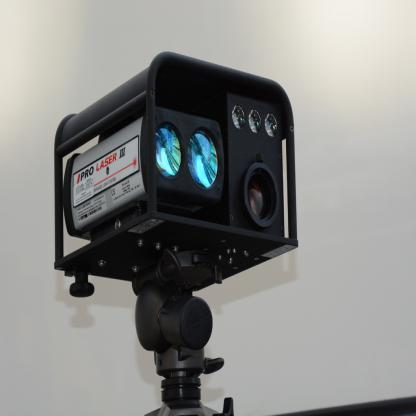Camera: (35, 1, 313, 416)
